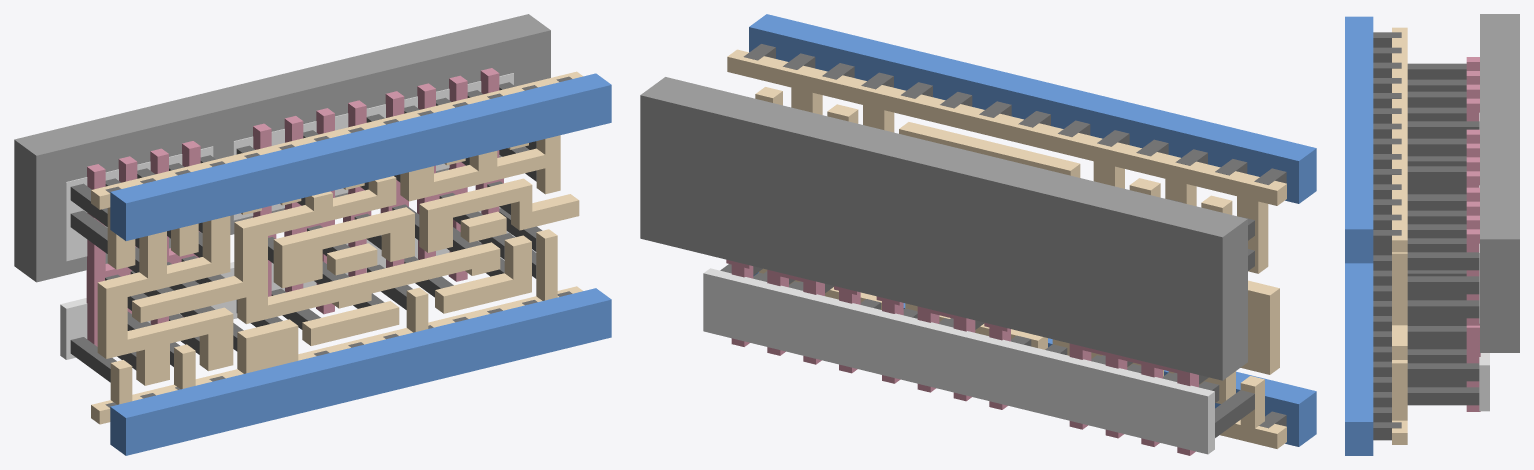
The model's file is sky130_fd_sc_hd__a22o_4.gds.gltf.
3 renders of one model, left to right at view 1: azimuth 30°, elevation 25°; view 2: azimuth 150°, elevation 25°; view 3: azimuth 270°, elevation 25°, orthographic. The views are drawn at different scales.
Parts seen in each view (by area): view 1: sky130_fd_sc_hd__a22o_4_li1, sky130_fd_sc_hd__a22o_4_met1, sky130_fd_sc_hd__a22o_4_nwell, sky130_fd_sc_hd__a22o_4_licon, sky130_fd_sc_hd__a22o_4_poly, sky130_fd_sc_hd__a22o_4_diff, sky130_fd_sc_hd__a22o_4_mcon; view 2: sky130_fd_sc_hd__a22o_4_nwell, sky130_fd_sc_hd__a22o_4_diff, sky130_fd_sc_hd__a22o_4_li1, sky130_fd_sc_hd__a22o_4_met1, sky130_fd_sc_hd__a22o_4_poly, sky130_fd_sc_hd__a22o_4_mcon, sky130_fd_sc_hd__a22o_4_licon; view 3: sky130_fd_sc_hd__a22o_4_licon, sky130_fd_sc_hd__a22o_4_nwell, sky130_fd_sc_hd__a22o_4_met1, sky130_fd_sc_hd__a22o_4_mcon, sky130_fd_sc_hd__a22o_4_li1, sky130_fd_sc_hd__a22o_4_poly, sky130_fd_sc_hd__a22o_4_diff.
Boxes of the visible parts, x1,y1,x2,y2 form: sky130_fd_sc_hd__a22o_4_li1: (91,71,583,424); sky130_fd_sc_hd__a22o_4_met1: (110,73,611,455); sky130_fd_sc_hd__a22o_4_nwell: (14,14,550,282); sky130_fd_sc_hd__a22o_4_licon: (70,82,542,382); sky130_fd_sc_hd__a22o_4_poly: (86,68,503,346); sky130_fd_sc_hd__a22o_4_diff: (60,73,513,359); sky130_fd_sc_hd__a22o_4_mcon: (105,76,572,407); sky130_fd_sc_hd__a22o_4_nwell: (640,77,1247,380); sky130_fd_sc_hd__a22o_4_diff: (703,268,1214,454); sky130_fd_sc_hd__a22o_4_li1: (727,49,1286,448); sky130_fd_sc_hd__a22o_4_met1: (749,14,1316,446); sky130_fd_sc_hd__a22o_4_poly: (726,259,1198,455); sky130_fd_sc_hd__a22o_4_mcon: (743,44,1286,428); sky130_fd_sc_hd__a22o_4_licon: (720,199,1254,437); sky130_fd_sc_hd__a22o_4_licon: (1407,63,1479,405); sky130_fd_sc_hd__a22o_4_nwell: (1480,14,1519,352); sky130_fd_sc_hd__a22o_4_met1: (1345,16,1373,455); sky130_fd_sc_hd__a22o_4_mcon: (1373,32,1401,440); sky130_fd_sc_hd__a22o_4_li1: (1392,27,1407,444); sky130_fd_sc_hd__a22o_4_poly: (1466,57,1480,411); sky130_fd_sc_hd__a22o_4_diff: (1479,112,1489,411).
Bounding box in the file's own units: 6.82 × 3.2 × 2.24.
